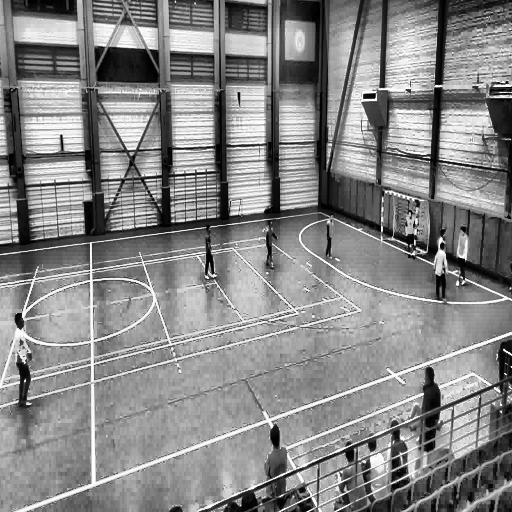player: (12, 312, 33, 407), (434, 238, 448, 300), (456, 225, 468, 286), (203, 222, 216, 277), (263, 221, 277, 268), (404, 210, 416, 258), (323, 212, 334, 261), (438, 228, 448, 256)
